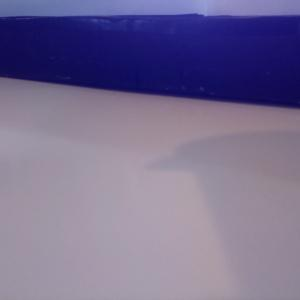zone: (1, 13, 300, 109)
